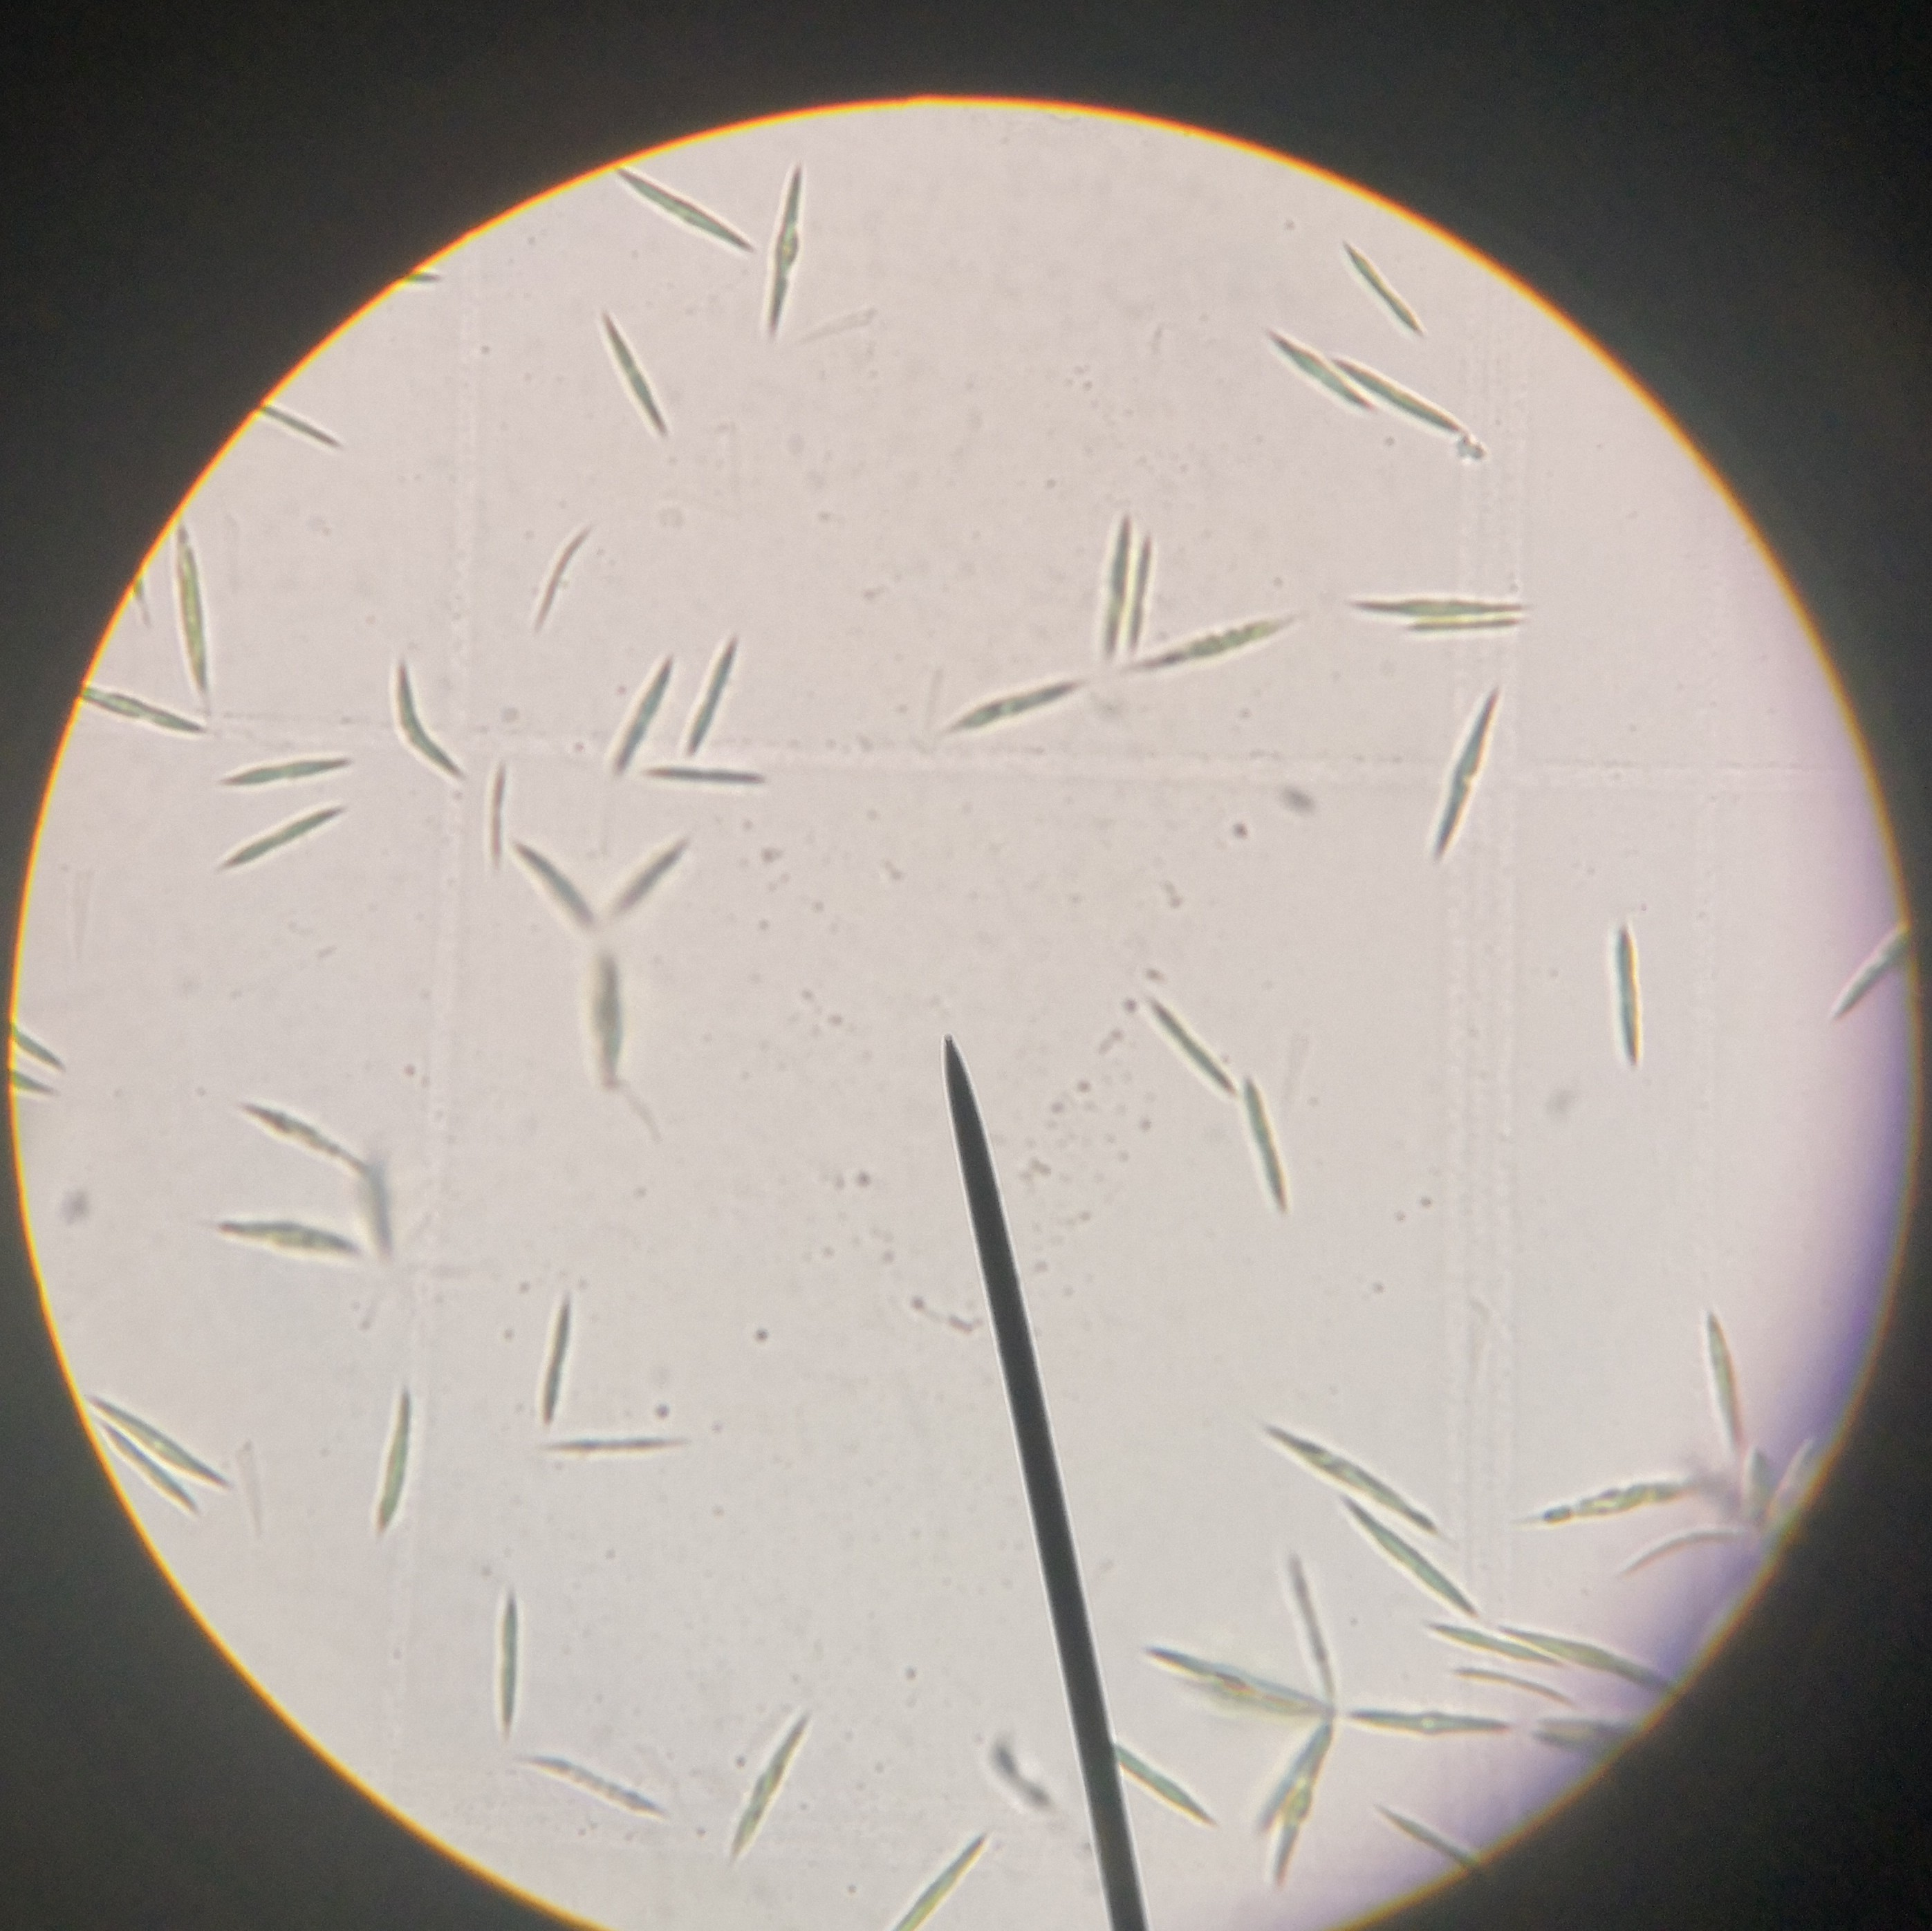Microalgae: (1261, 1418, 1440, 1526), (1336, 1503, 1470, 1634), (862, 1820, 1007, 1931), (92, 1378, 232, 1491), (239, 1084, 398, 1181), (1143, 1652, 1330, 1731), (729, 1706, 814, 1851), (1509, 1623, 1672, 1696), (617, 164, 745, 256), (1138, 988, 1242, 1096), (1327, 363, 1467, 440), (1587, 928, 1658, 1079), (1430, 1648, 1576, 1719), (600, 311, 674, 451), (389, 645, 460, 787), (934, 668, 1070, 741), (1125, 617, 1272, 684), (97, 1420, 200, 1515), (1279, 1715, 1336, 1883), (1690, 1316, 1748, 1471), (1826, 920, 1920, 1013), (520, 1751, 662, 1813), (1247, 324, 1357, 401), (1267, 1549, 1334, 1675), (226, 798, 341, 870), (1453, 679, 1499, 859), (203, 1215, 364, 1266), (1118, 1747, 1215, 1830), (1369, 1807, 1481, 1880), (474, 1586, 527, 1736), (1336, 248, 1419, 340), (757, 168, 805, 327), (384, 1390, 428, 1556), (1539, 1469, 1691, 1514), (85, 688, 196, 748), (694, 633, 748, 755), (1249, 1086, 1295, 1222), (1362, 582, 1527, 617), (1366, 1699, 1520, 1736), (541, 1427, 692, 1464), (170, 504, 200, 686), (543, 1300, 587, 1423), (612, 668, 662, 769), (1622, 1524, 1737, 1567), (1539, 1715, 1638, 1761), (1090, 516, 1122, 656), (1127, 513, 1161, 638), (639, 764, 787, 787), (487, 757, 513, 868), (7, 1027, 73, 1052), (0, 1068, 58, 1088)
